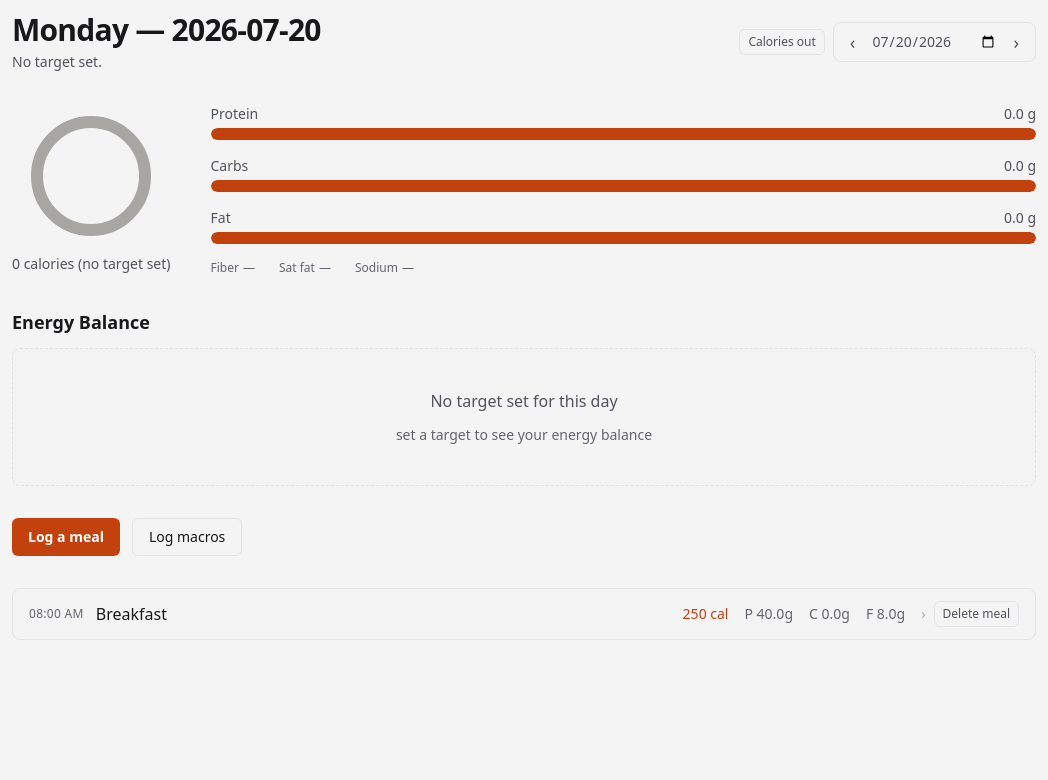
Test: DayView › deletes a whole meal group
Click the button "08:00 AM Breakfast 250 cal P 40.0g C 0.0g F 8.0g ›".
click(56, 614)  # box [29,602,926,626]
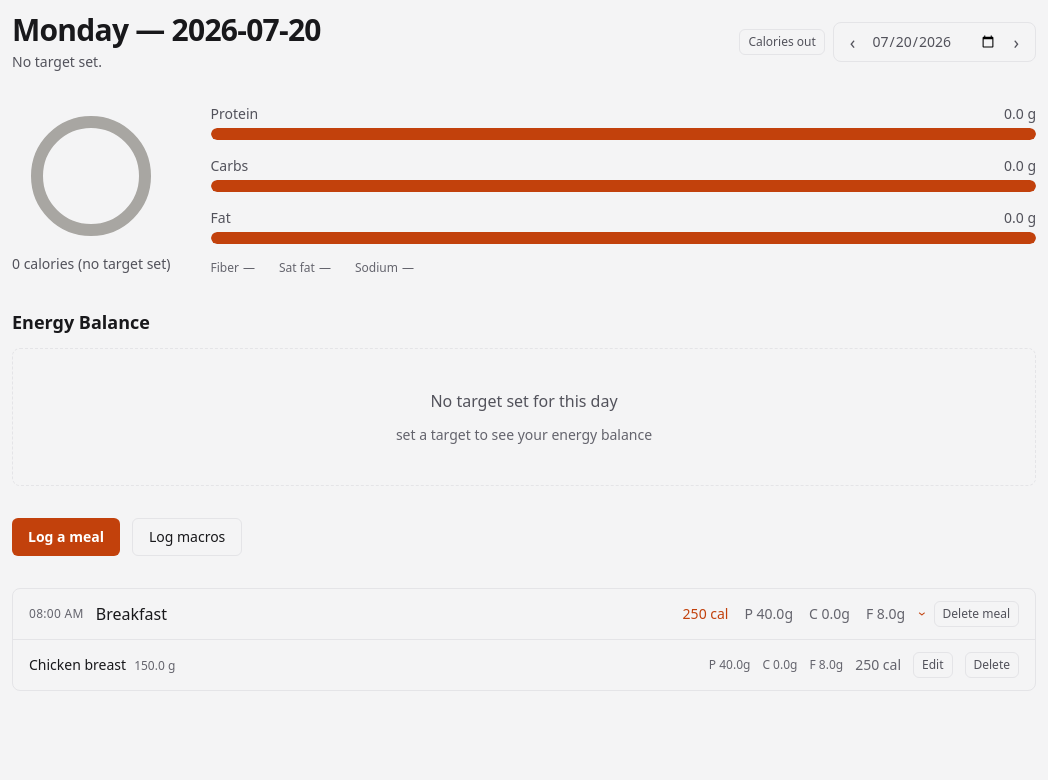
Click the button "Delete meal".
click(976, 614)  # box [934,601,1019,627]
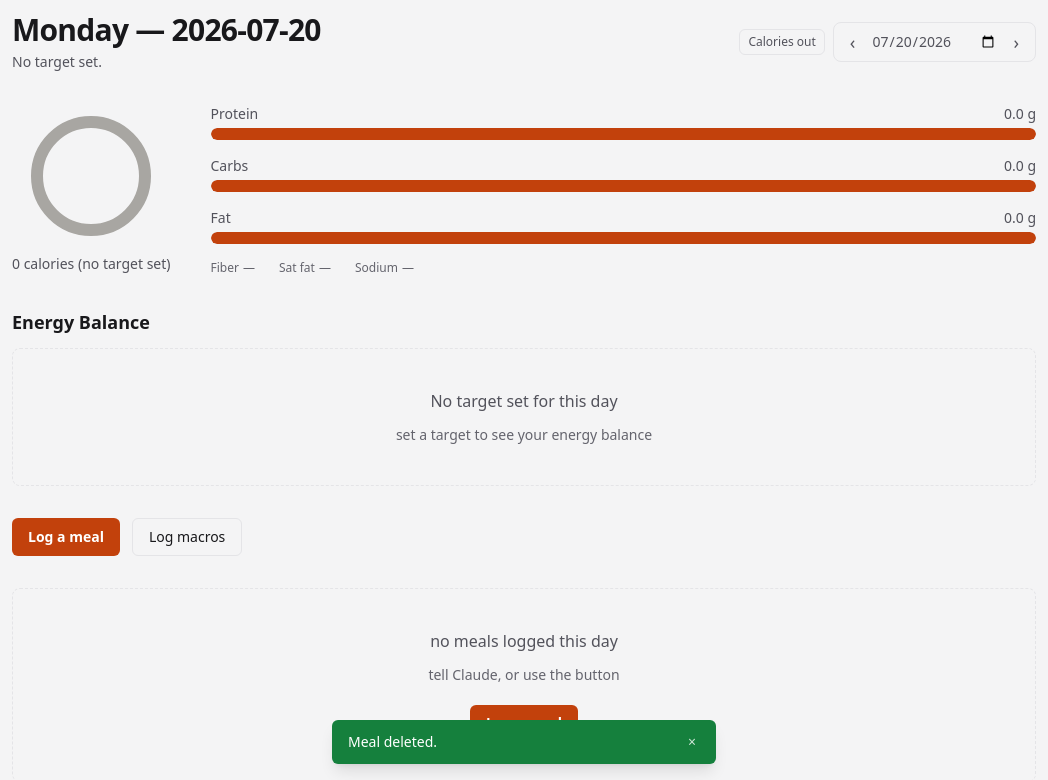
Now the text "Chicken breast" is gone
Now the text "Meal deleted." is shown, box [348,732,437,752]
